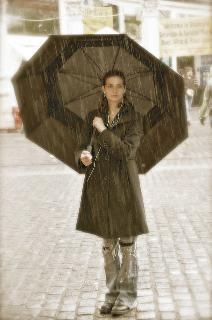person - v3 P: (76, 70, 148, 314), (200, 71, 211, 124), (184, 67, 194, 125)
